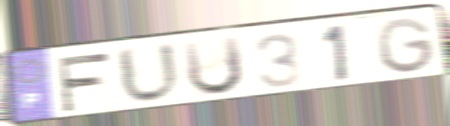1: (317, 22, 351, 84)
3: (254, 32, 302, 89)
F: (53, 50, 113, 114)
G: (374, 16, 438, 77)
U: (113, 39, 185, 107), (179, 34, 246, 99)
